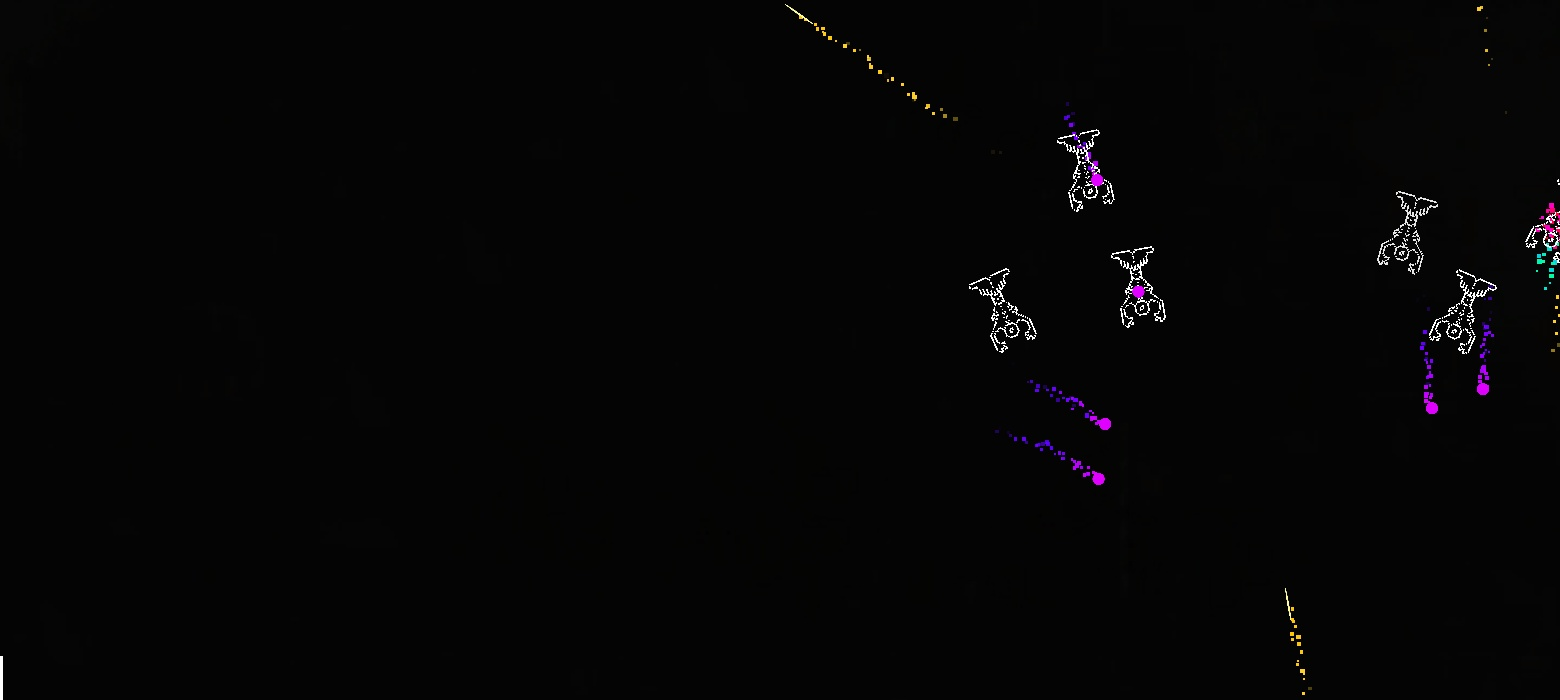enemy: (968, 268, 1037, 354), (1430, 268, 1497, 355), (1377, 191, 1438, 275), (1057, 129, 1116, 212), (1111, 246, 1166, 328)
